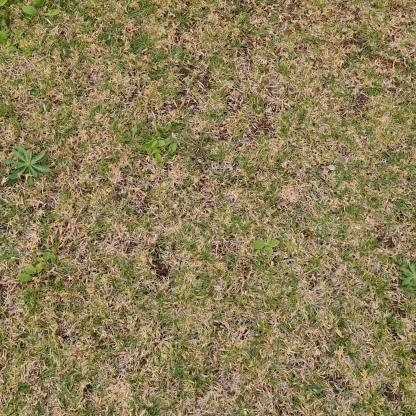Weeds: (3, 144, 51, 186), (140, 124, 178, 162), (18, 252, 56, 282), (250, 235, 279, 255), (399, 262, 415, 291), (122, 125, 142, 146)
